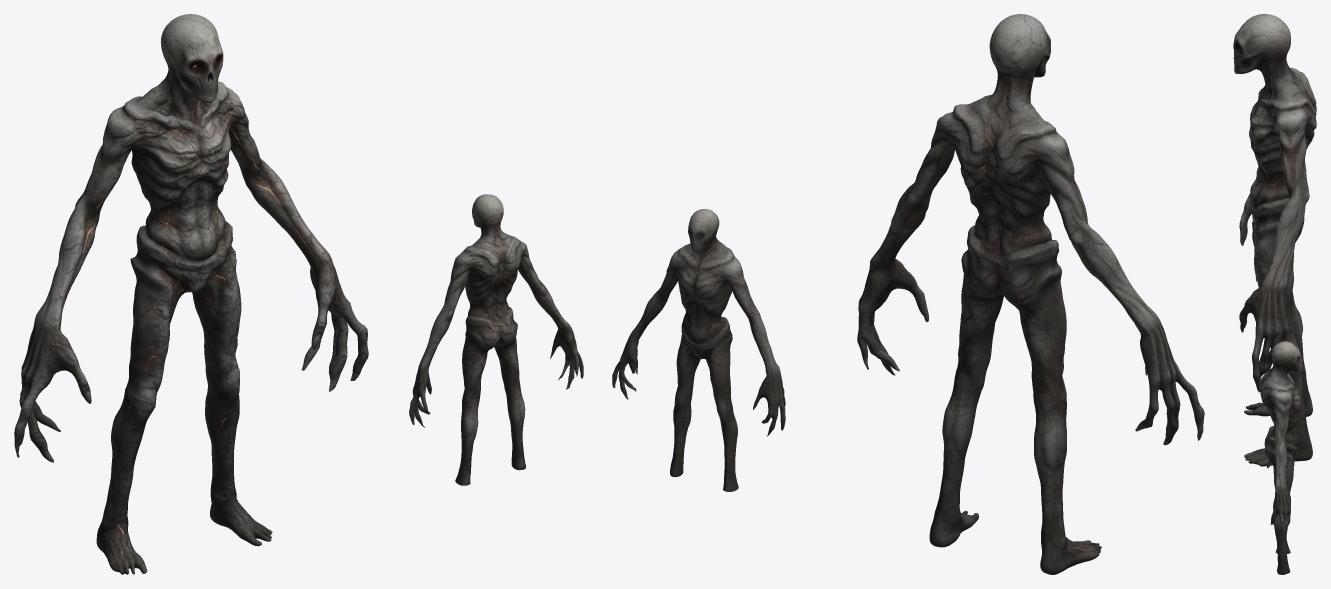
File: HOLLOW-T1-UNDONE-ALT-GAME.glb
The picture shows the model from 3 angles, left to right: view 1: azimuth 30°, elevation 25°; view 2: azimuth 150°, elevation 25°; view 3: azimuth 270°, elevation 25°; orthographic projection. The views are drawn at different scales.
Visible parts, largest first — view 1: mesh_node; view 2: mesh_node; view 3: mesh_node.
Part boxes in pixels (left/top/right/bottom): mesh_node: left=14, top=14, right=583, bottom=574; mesh_node: left=612, top=14, right=1204, bottom=574; mesh_node: left=1233, top=14, right=1316, bottom=574.
Bounding box in the file's own units: 1.89 × 1.67 × 0.2963.
1 material, 1 textured.
